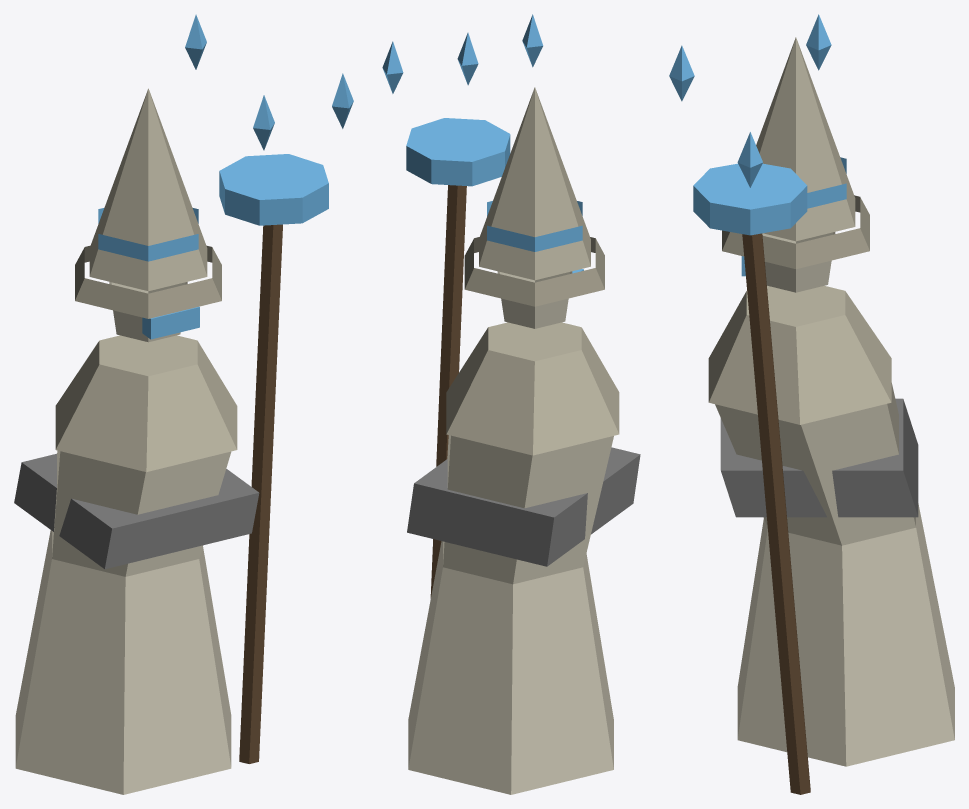
File: stormcaller-attack-0.obj
3 renders of one model, left to right at view 1: azimuth 30°, elevation 25°; view 2: azimuth 150°, elevation 25°; view 3: azimuth 270°, elevation 25°, orthographic. The views are drawn at different scales.
Visible parts, largest first — view 1: stormcaller-attack-0; view 2: stormcaller-attack-0; view 3: stormcaller-attack-0.
Boxes of the visible parts, bbox=[...] form: stormcaller-attack-0: bbox=[14, 14, 353, 794]; stormcaller-attack-0: bbox=[382, 14, 640, 794]; stormcaller-attack-0: bbox=[669, 14, 954, 794].
Bounding box in the file's own units: 1.19 × 2.92 × 1.
